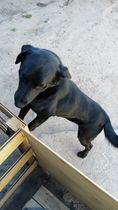dog: (10, 42, 117, 159)
